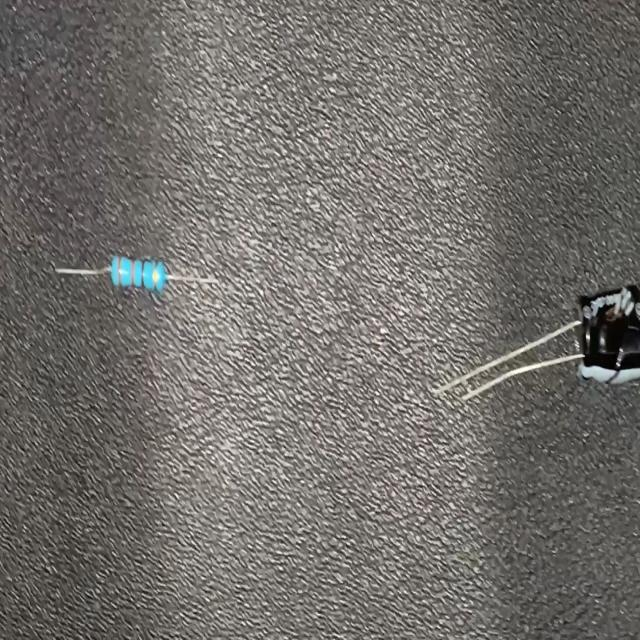capacitor: (432, 279, 640, 407)
cracked: (578, 287, 640, 328), (598, 329, 640, 383)
resistor: (52, 248, 222, 303)
